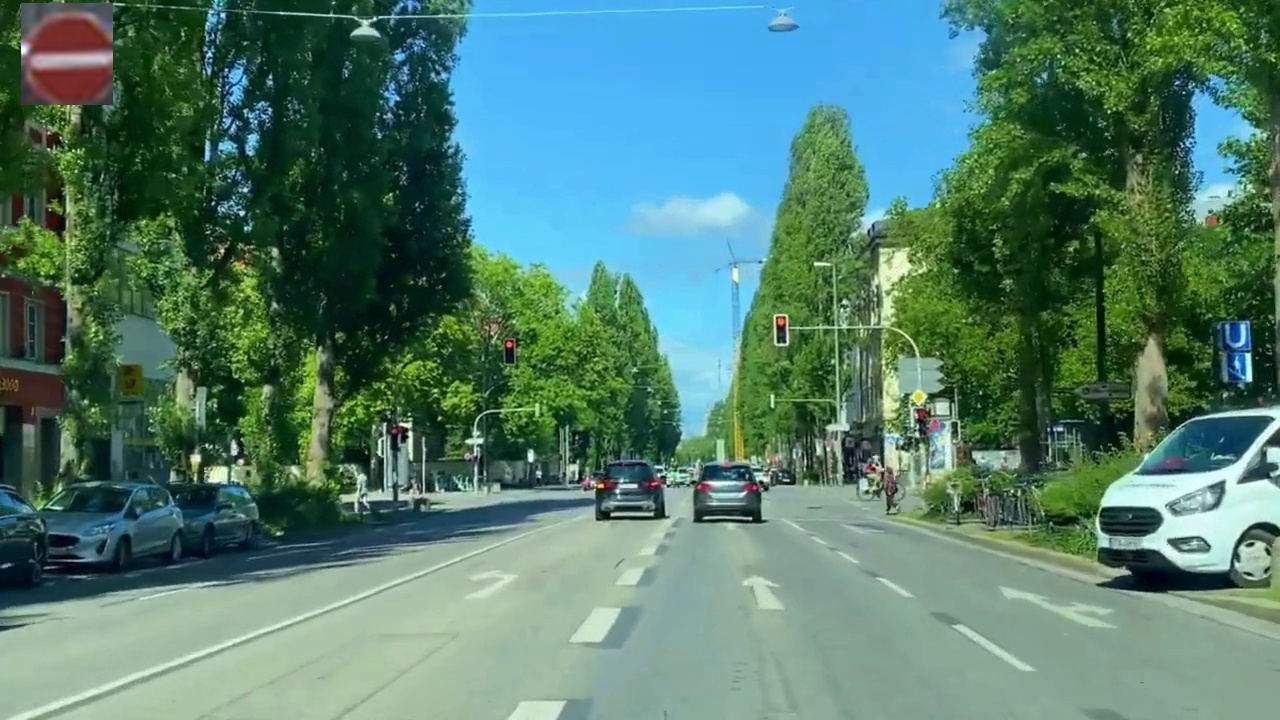No entry: (21, 3, 113, 105)
